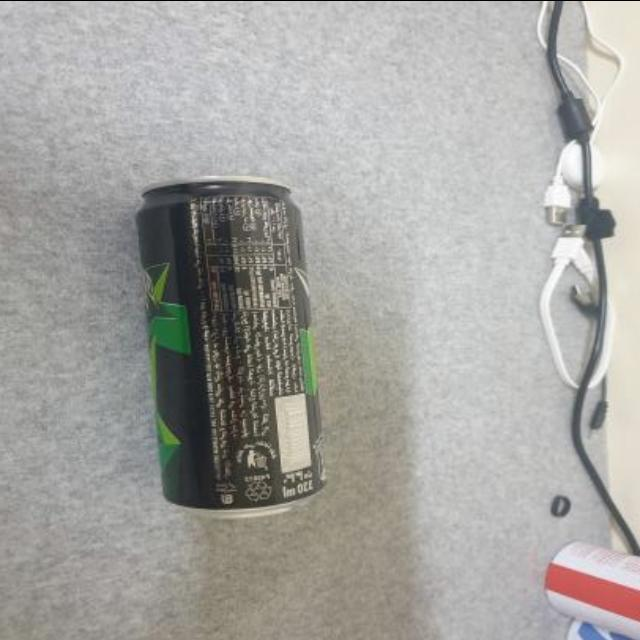metal: (140, 180, 326, 517)
